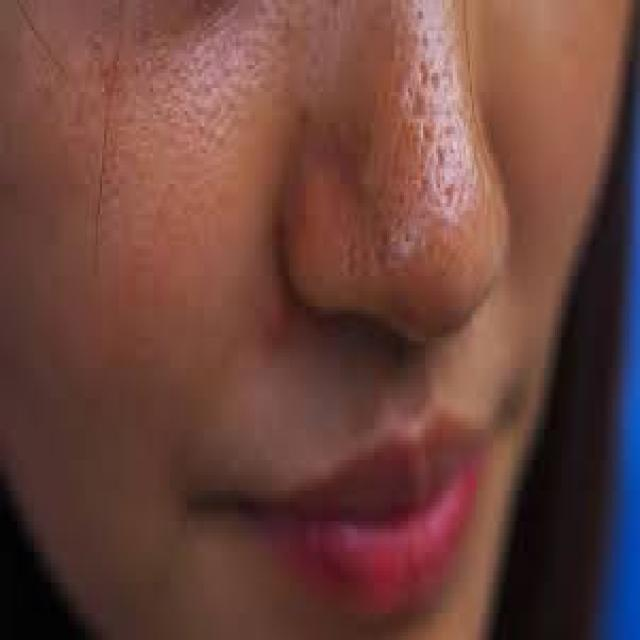Englarged-Pores: (352, 37, 520, 273)
Oily-Skin: (81, 69, 640, 626)
